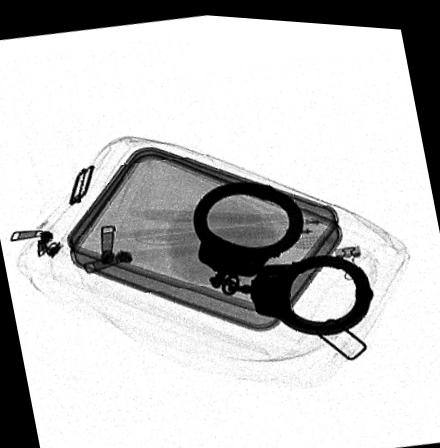HandCuffs: (191, 177, 373, 329)
